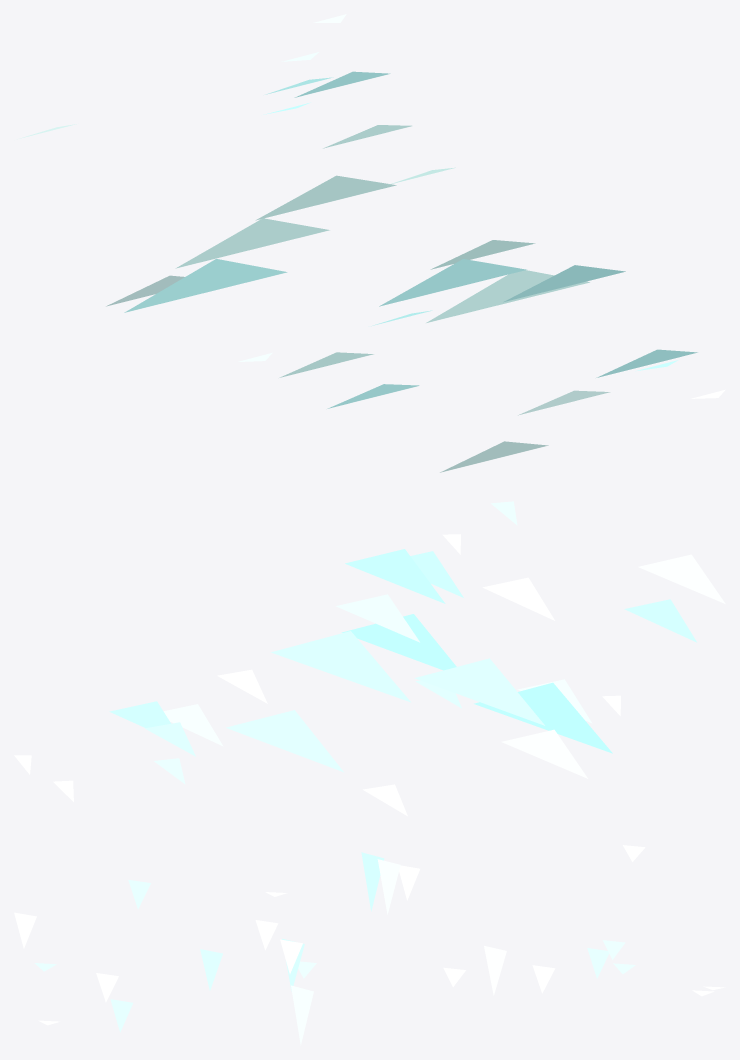
The model's file is cascade-spray.glb.
3 views of the same model, one above another, from view 1: azimuth 30°, elevation 25°; view 2: azimuth 150°, elevation 25°; view 3: azimuth 270°, elevation 25° (orthographic). The views are drawn at different scales.
Visible parts, largest first — view 1: cascade-spray; view 2: cascade-spray; view 3: cascade-spray.
Boxes of the visible parts, x1=… form: cascade-spray: x1=17, y1=14, x2=725, y2=472; cascade-spray: x1=14, y1=501, x2=725, y2=816; cascade-spray: x1=14, y1=845, x2=725, y2=1045.
Size of the model in its own units: 3.6 by 0.8495 by 6.47.
Materials: 1 (1 with a texture image).
